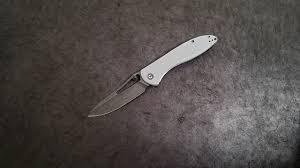Knife: (87, 33, 218, 118)
